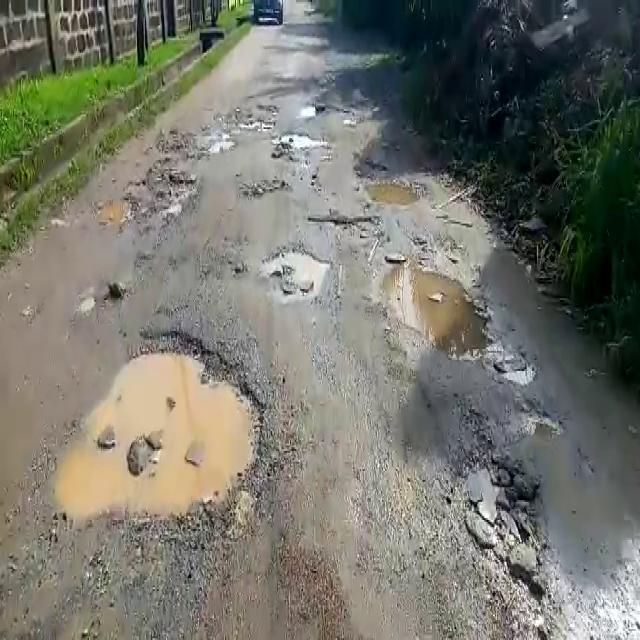pothole: (69, 327, 268, 532), (375, 259, 492, 362), (97, 167, 201, 234), (263, 246, 328, 301), (510, 397, 561, 440), (359, 174, 422, 208), (305, 212, 382, 236), (494, 360, 537, 388), (238, 176, 290, 198)
